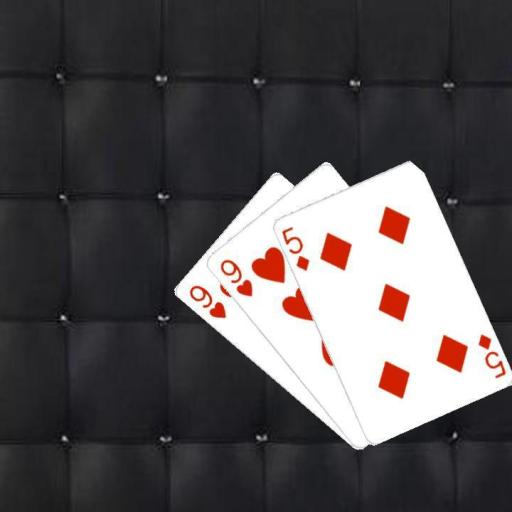card-corner: (474, 330, 508, 380), (216, 255, 254, 299), (185, 282, 227, 320), (278, 224, 311, 272)
